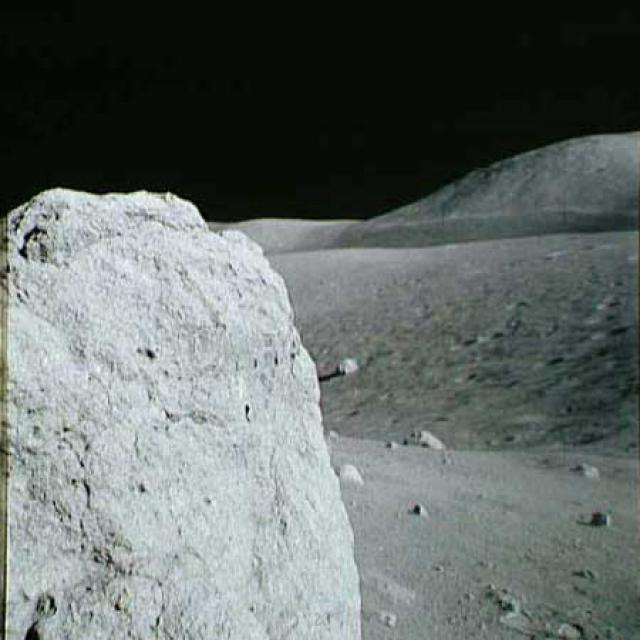rock: (0, 180, 367, 639), (331, 453, 371, 495), (400, 427, 445, 457), (563, 458, 601, 483), (588, 499, 612, 532), (328, 354, 366, 374)
